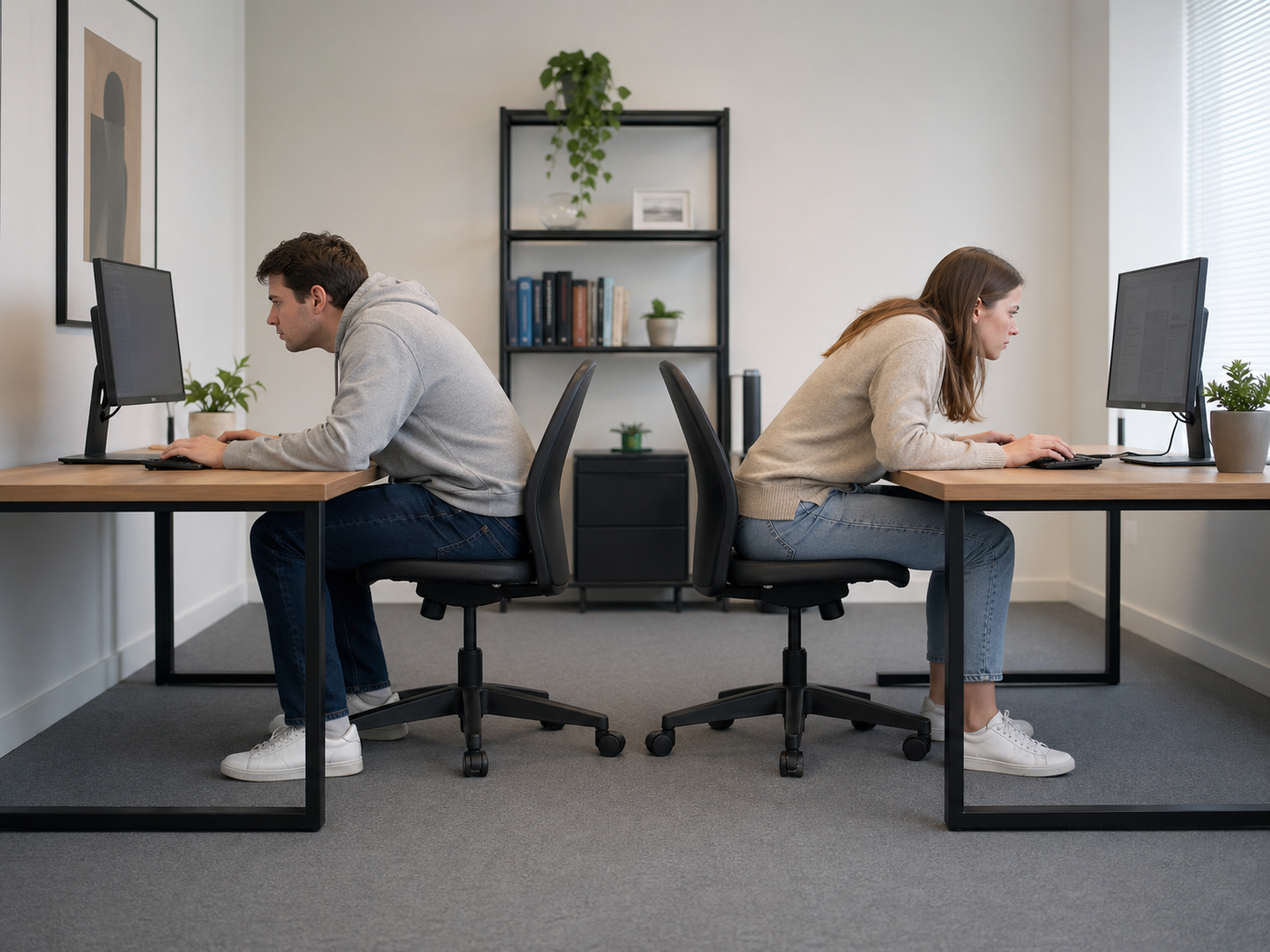sitting_bad: (723, 239, 1076, 797), (203, 227, 547, 784)
